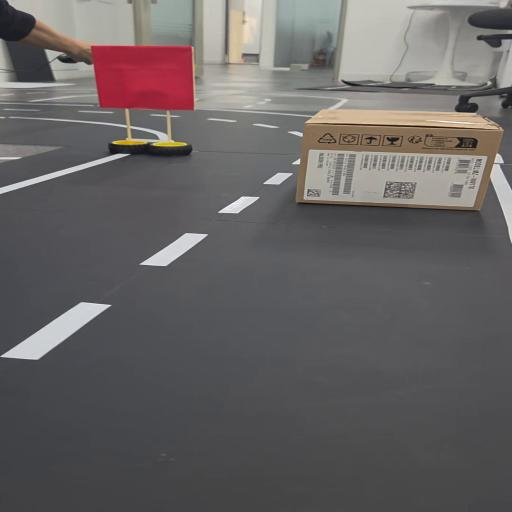Box: (283, 105, 511, 215)
Sign_A: (96, 44, 203, 156)
